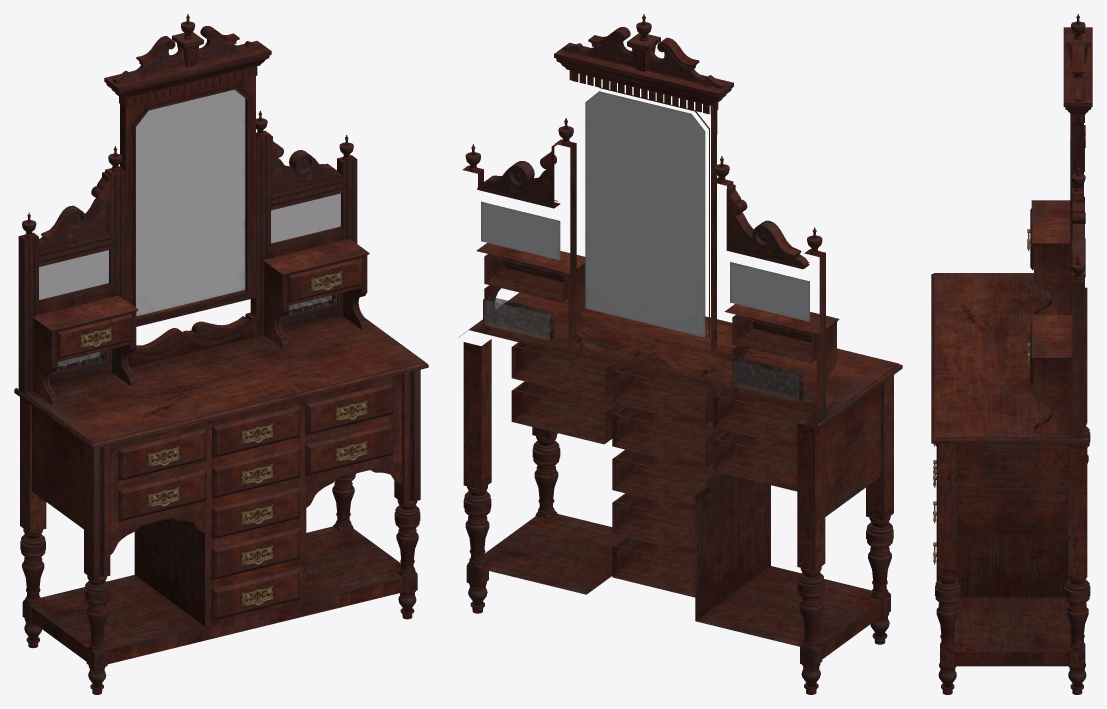
File: dressing-table-round-mirror.glb
3 views of the same model, side by side, from view 1: azimuth 30°, elevation 25°; view 2: azimuth 150°, elevation 25°; view 3: azimuth 270°, elevation 25° (orthographic). The views are drawn at different scales.
Parts seen in each view (by area): view 1: dressing-table-round-mirror; view 2: dressing-table-round-mirror; view 3: dressing-table-round-mirror.
Boxes of the visible parts, left/top/right/bottom form: dressing-table-round-mirror: left=14, top=14, right=428, bottom=694; dressing-table-round-mirror: left=458, top=14, right=902, bottom=694; dressing-table-round-mirror: left=931, top=14, right=1092, bottom=694.
Size of the model in its own units: 1.42 by 2.39 by 0.5801.
3 materials, 3 textured.
